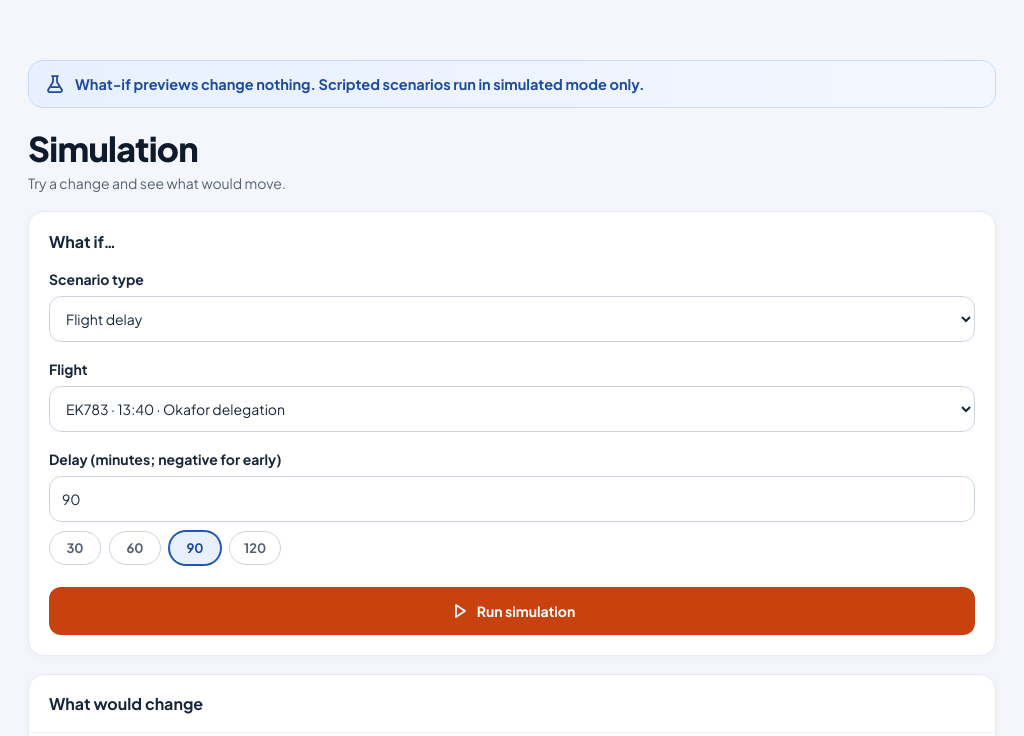
SimulationScreen › previews a driver dropping out from a time
Select "Driver unavailable" in the dropdown labelled "Scenario type": {"x": 512, "y": 319} [49,296,975,342]
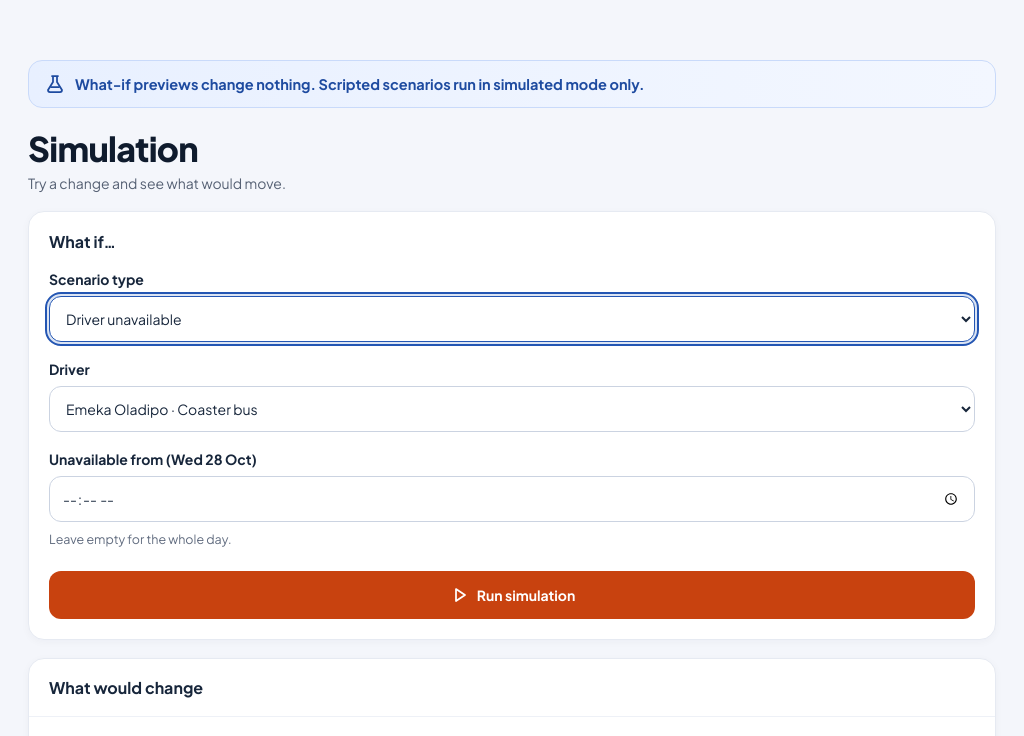
In the time field labelled "Unavailable from (Wed 28 Oct) Leave empty for the whole day.": {"x": 512, "y": 499} [49,476,975,522], type "14:00"
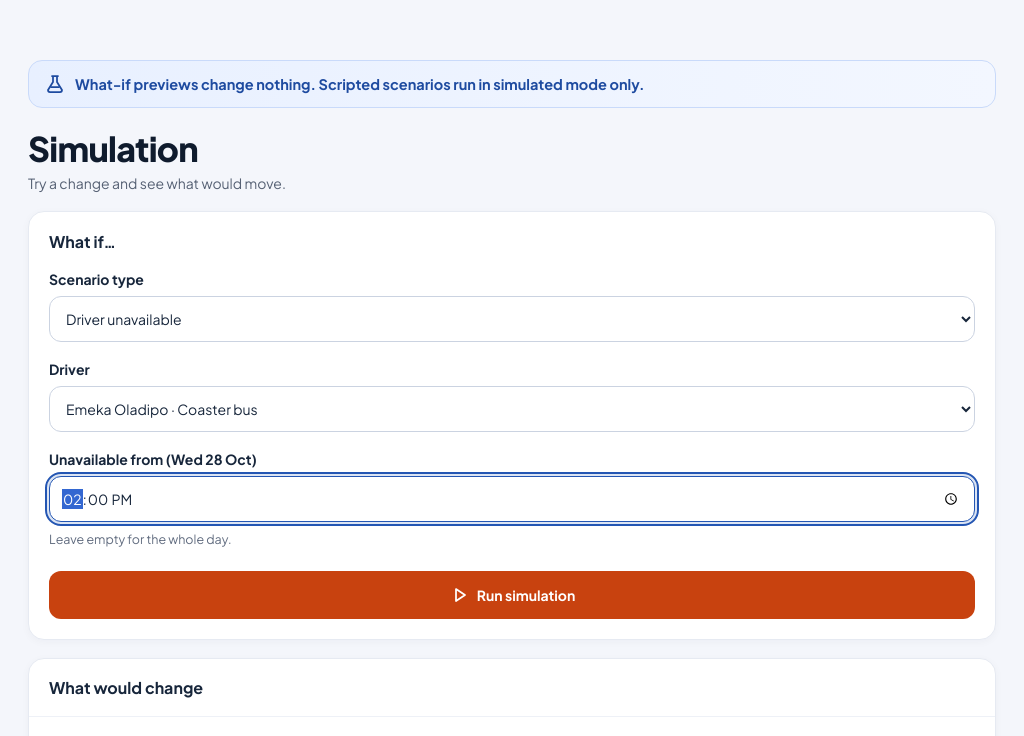
Click the button "Run simulation": {"x": 512, "y": 595} [49,571,975,619]
(page scrolled)
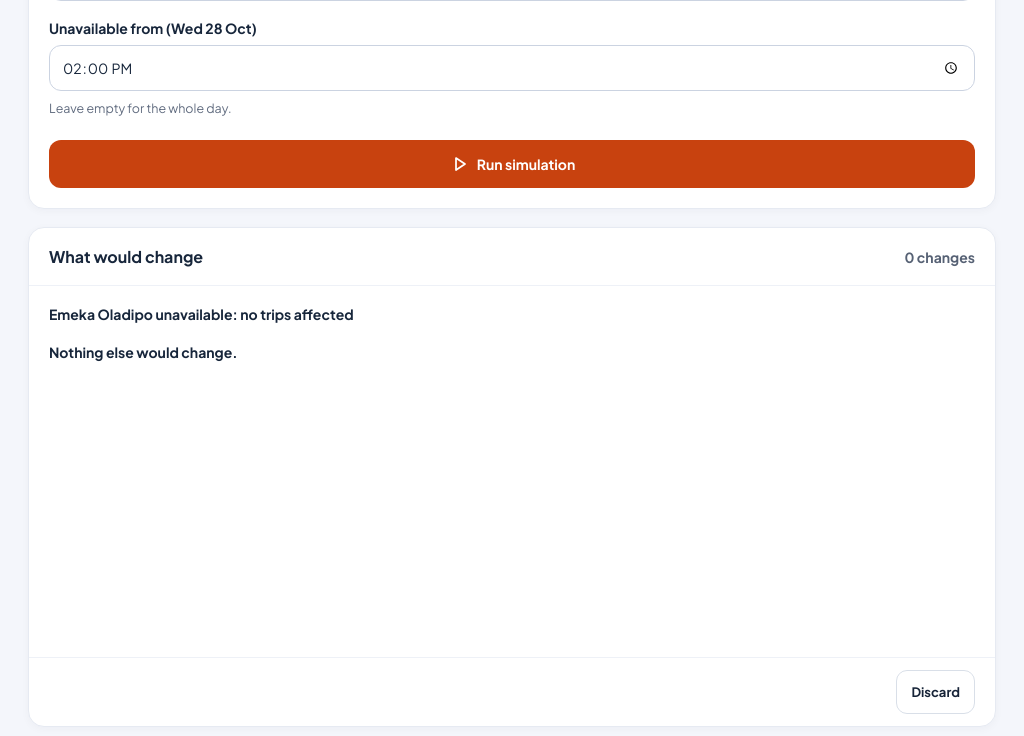
Expected: the text "Nothing else would change." is shown, [49,343,238,361]
